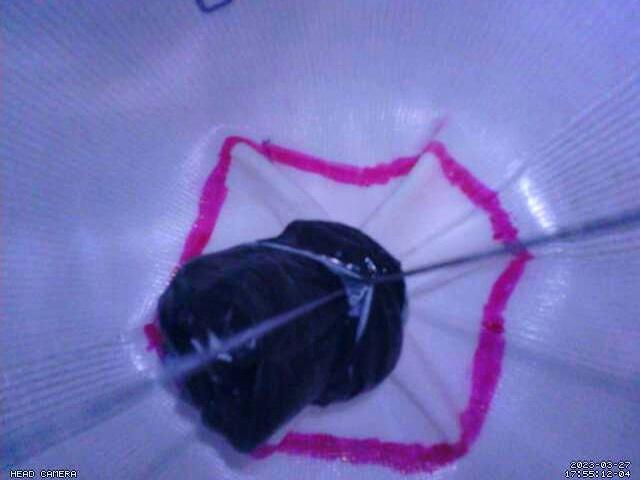red-circle: (146, 135, 535, 471)
